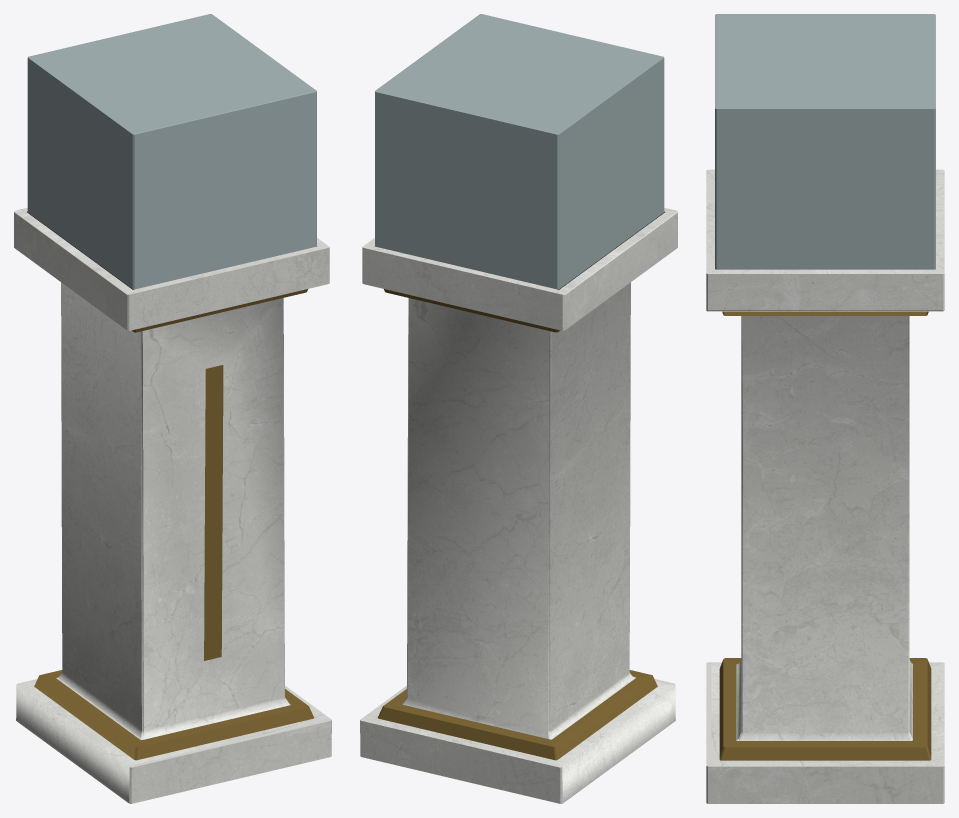
The model's file is Pedestal1.fbx.
The picture shows the model from 3 angles, left to right: view 1: azimuth 30°, elevation 25°; view 2: azimuth 150°, elevation 25°; view 3: azimuth 270°, elevation 25°; orthographic projection. The views are drawn at different scales.
Parts seen in each view (by area): view 1: MuseumWhole.028; view 2: MuseumWhole.028; view 3: MuseumWhole.028.
Part boxes in pixels (x1,y1,x2,y2): MuseumWhole.028: [14, 14, 331, 803]; MuseumWhole.028: [360, 14, 677, 803]; MuseumWhole.028: [706, 14, 944, 803].
Size of the model in its own units: 37.87 by 118 by 36.78.
